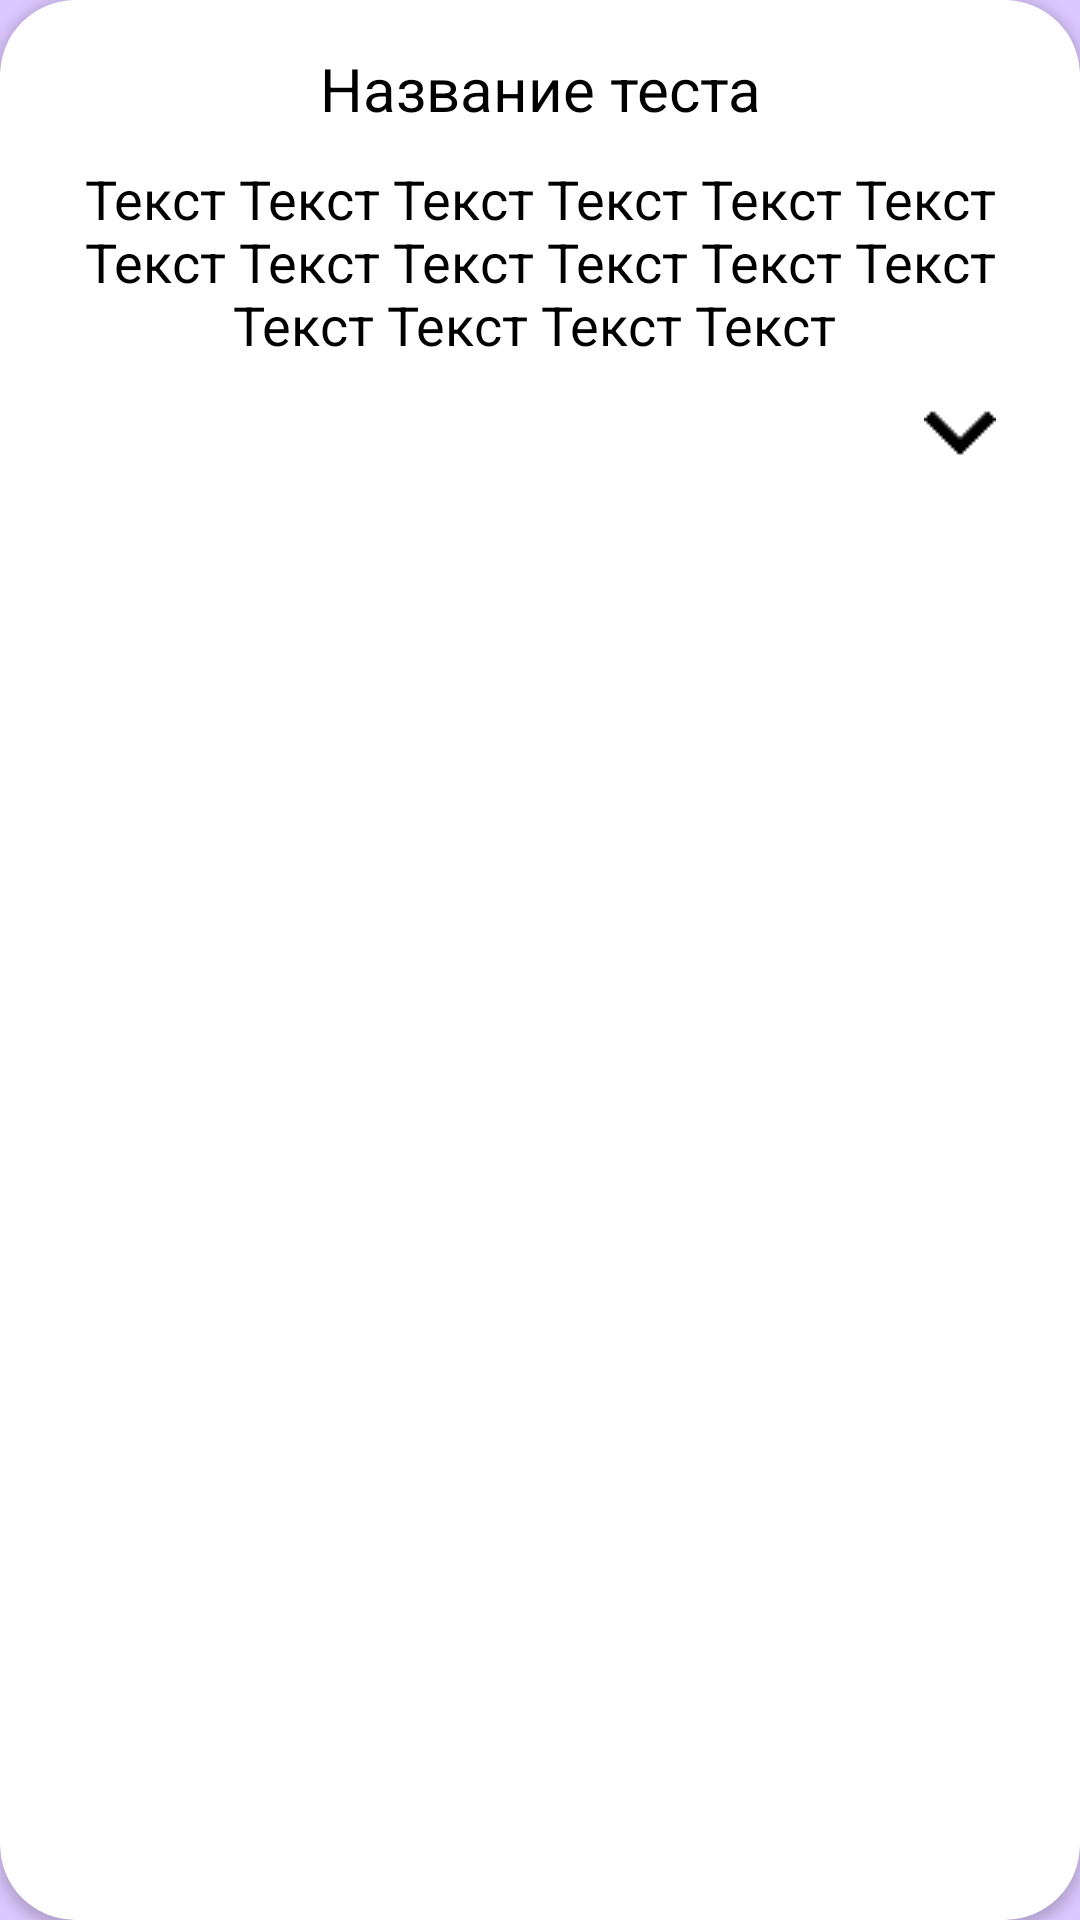

Icon bounding boxes for this 1080x1920 phone screenshot, format (x1, y1, x2, y2):
more: (924, 411, 996, 455)
